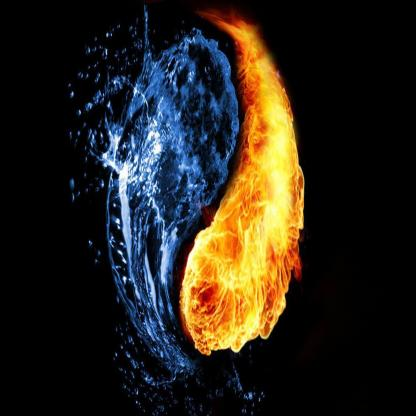fire: (178, 10, 309, 364)
